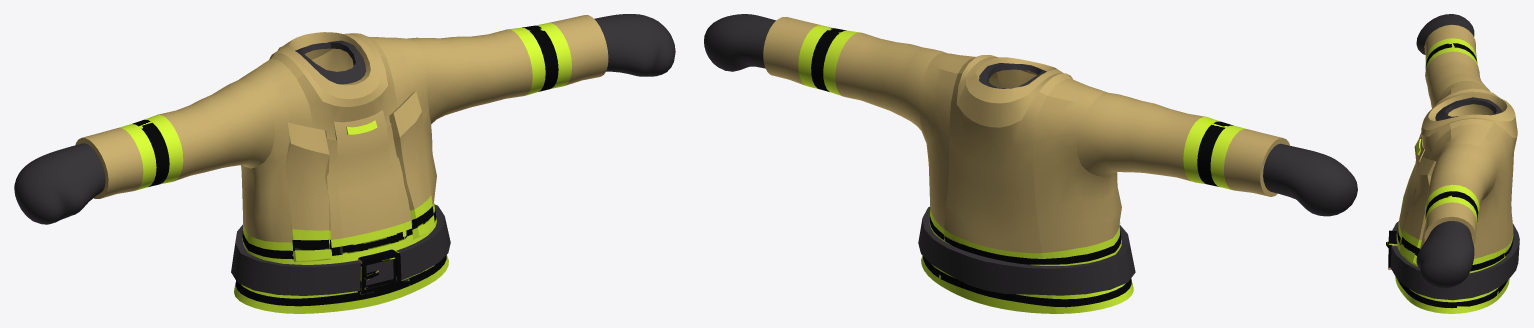
File: 12消防套装.fbx
3 views of the same model, side by side, from view 1: azimuth 30°, elevation 25°; view 2: azimuth 150°, elevation 25°; view 3: azimuth 270°, elevation 25° (orthographic). The views are drawn at different scales.
Visible parts, largest first — view 1: 12消防套装; view 2: 12消防套装; view 3: 12消防套装.
Boxes of the visible parts, x1=… form: 12消防套装: x1=14, y1=14, x2=675, y2=313; 12消防套装: x1=704, y1=14, x2=1357, y2=313; 12消防套装: x1=1386, y1=14, x2=1519, y2=313.
Size of the model in its own units: 1.99 by 0.6554 by 0.4536.
